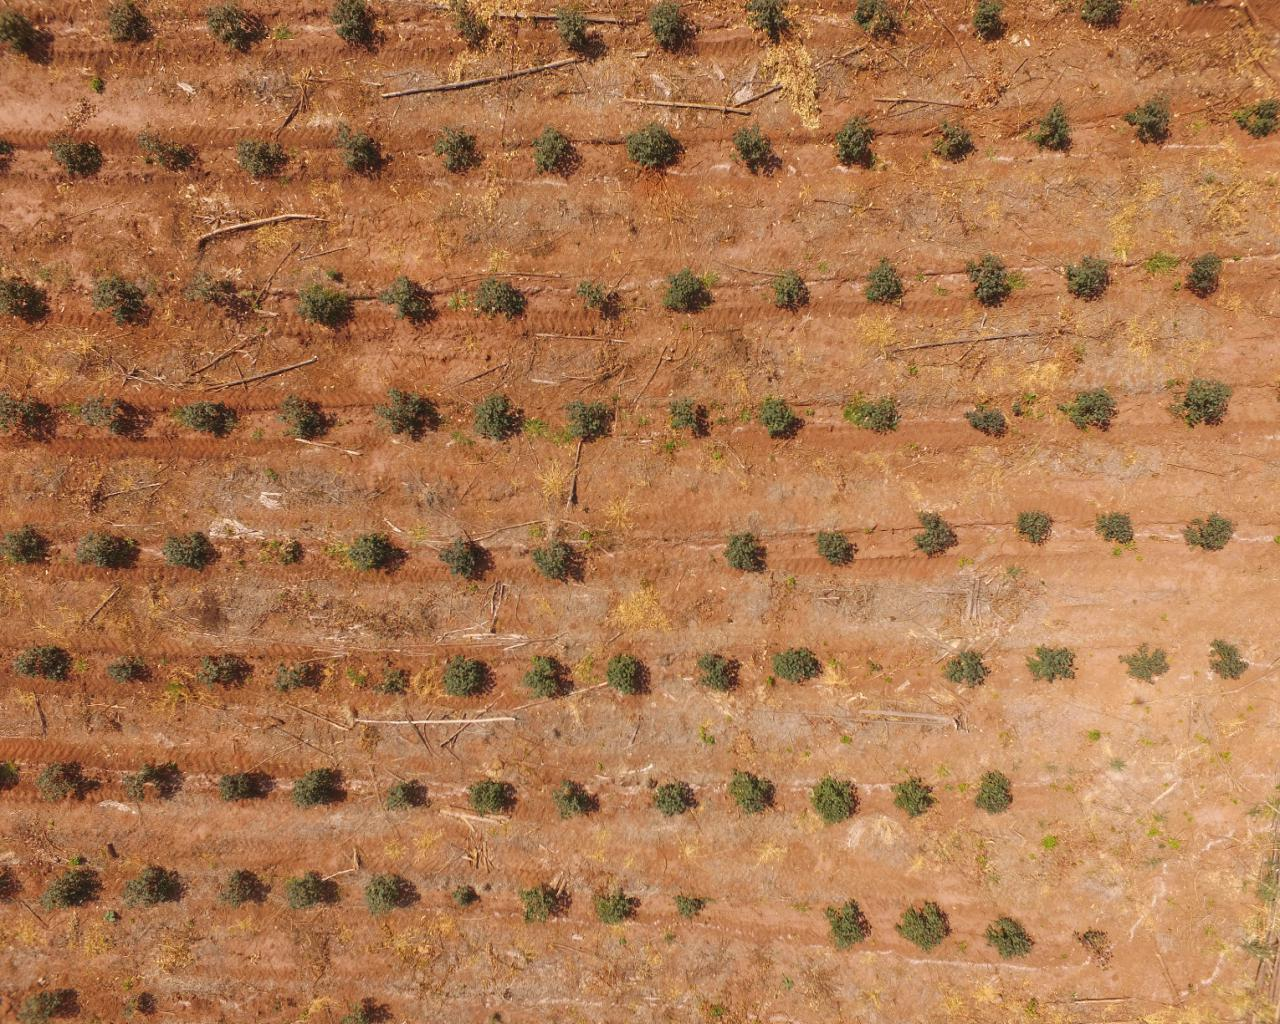Tree: (284, 396, 332, 438), (631, 130, 683, 167), (143, 135, 195, 170), (333, 129, 378, 167), (1, 394, 43, 434), (100, 279, 139, 322), (1206, 642, 1250, 678), (471, 400, 516, 436), (994, 916, 1030, 957), (385, 395, 426, 430), (237, 143, 289, 171), (86, 536, 133, 567), (565, 401, 604, 439), (45, 875, 93, 904), (304, 287, 345, 322), (734, 776, 774, 811), (905, 910, 946, 945), (820, 530, 857, 567), (182, 405, 233, 432), (829, 909, 867, 944), (89, 401, 129, 435), (1, 282, 41, 316), (1127, 648, 1167, 681), (813, 783, 853, 816), (972, 260, 1004, 301), (209, 10, 247, 45), (452, 5, 484, 46), (293, 772, 334, 802), (750, 1, 786, 37), (336, 2, 370, 40), (841, 121, 871, 162), (19, 995, 70, 1019), (1191, 382, 1225, 419), (1040, 111, 1072, 148), (1068, 259, 1106, 292), (1137, 97, 1168, 136), (920, 510, 951, 549), (0, 13, 32, 49), (934, 122, 972, 154), (530, 657, 558, 699), (662, 276, 702, 305), (447, 661, 484, 693), (293, 876, 330, 906), (26, 649, 65, 678), (655, 11, 686, 47), (738, 127, 767, 165), (1076, 394, 1114, 423), (56, 146, 99, 171), (167, 540, 211, 564), (111, 6, 145, 37), (368, 879, 402, 909), (731, 536, 761, 572), (539, 551, 572, 582), (389, 285, 423, 315), (555, 788, 595, 813), (189, 282, 227, 308), (443, 136, 473, 168), (1034, 650, 1071, 676), (763, 403, 796, 432), (134, 876, 168, 903), (359, 538, 396, 563), (777, 654, 817, 677), (200, 658, 237, 682), (539, 134, 565, 168), (9, 531, 39, 561), (1246, 102, 1270, 139), (861, 402, 899, 425), (703, 656, 731, 686), (611, 656, 635, 692), (523, 892, 559, 916), (44, 769, 71, 800), (874, 269, 900, 301), (657, 788, 694, 811), (557, 11, 582, 44), (863, 2, 890, 31), (897, 787, 931, 810), (275, 668, 315, 688), (1194, 256, 1216, 292), (482, 285, 514, 309), (953, 653, 981, 680), (473, 784, 504, 809), (226, 877, 258, 900), (224, 776, 256, 798), (777, 280, 806, 305), (447, 545, 479, 567), (970, 412, 1004, 432), (982, 781, 1008, 807), (599, 897, 625, 923), (977, 10, 1002, 38), (1021, 517, 1049, 541), (1194, 522, 1227, 543), (119, 770, 144, 796), (388, 785, 414, 808), (578, 284, 606, 305), (110, 658, 137, 679), (675, 402, 696, 427), (675, 897, 704, 914), (1101, 517, 1130, 535), (387, 673, 402, 694), (455, 889, 474, 903), (284, 544, 300, 559)
Wood: (379, 56, 578, 102), (184, 332, 321, 393), (191, 209, 323, 249), (623, 91, 758, 120), (890, 330, 1034, 355), (857, 703, 964, 731), (1070, 993, 1188, 1013), (75, 588, 122, 634), (869, 93, 968, 111), (564, 442, 583, 511), (293, 440, 364, 458), (351, 717, 518, 724), (534, 332, 631, 345), (30, 688, 47, 739)
